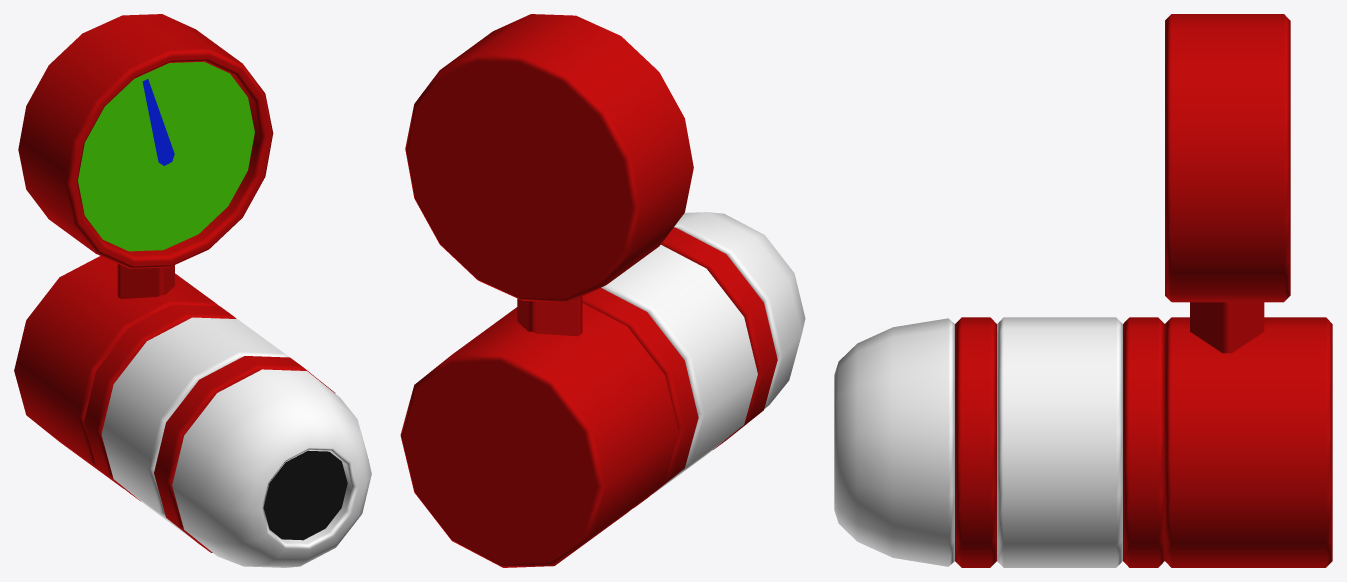
Rendered from WallBenchPart01d.fbx.
3 views of the same model, side by side, from view 1: azimuth 30°, elevation 25°; view 2: azimuth 150°, elevation 25°; view 3: azimuth 270°, elevation 25° (orthographic). The views are drawn at different scales.
Parts seen in each view (by area): view 1: WallBenchPart01d; view 2: WallBenchPart01d; view 3: WallBenchPart01d.
Boxes of the visible parts, box(x1,y1,x2,y2) form: WallBenchPart01d: box(14, 14, 371, 567); WallBenchPart01d: box(400, 14, 805, 567); WallBenchPart01d: box(834, 14, 1332, 567).
Size of the model in its own units: 4.3 by 7.42 by 8.7.
